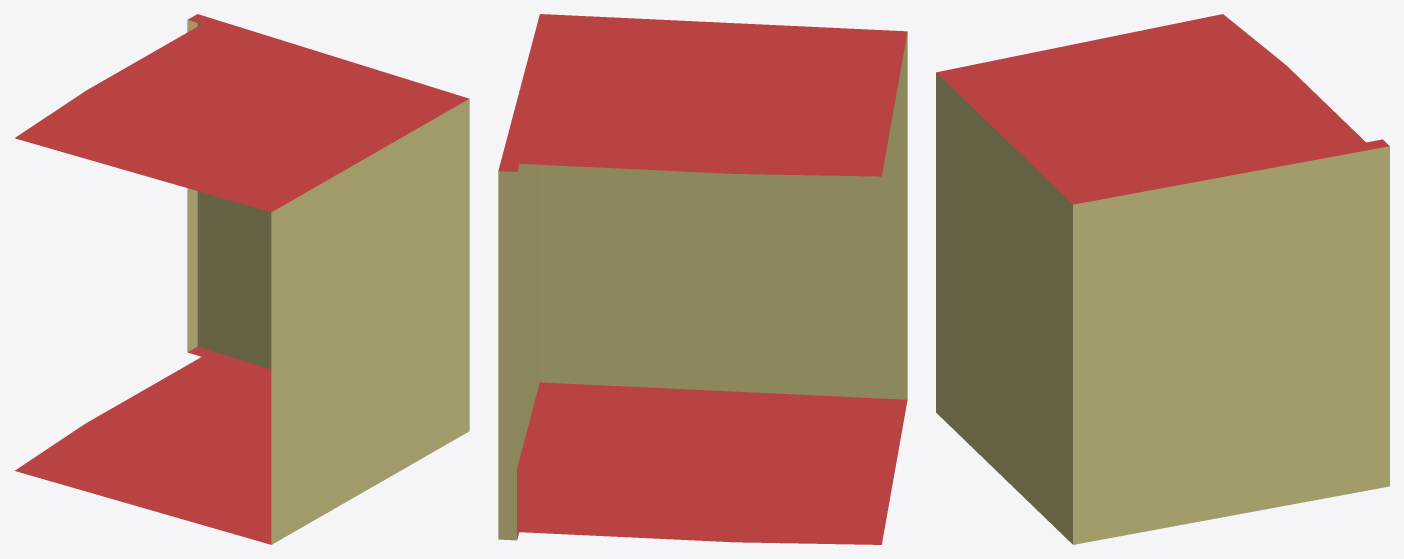
3 renders of one model, left to right at view 1: azimuth 30°, elevation 25°; view 2: azimuth 150°, elevation 25°; view 3: azimuth 270°, elevation 25°, orthographic. The views are drawn at different scales.
Bounding box in the file's own units: 6.82 × 6.86 × 5.68.
